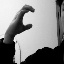c: (12, 3, 36, 32)
